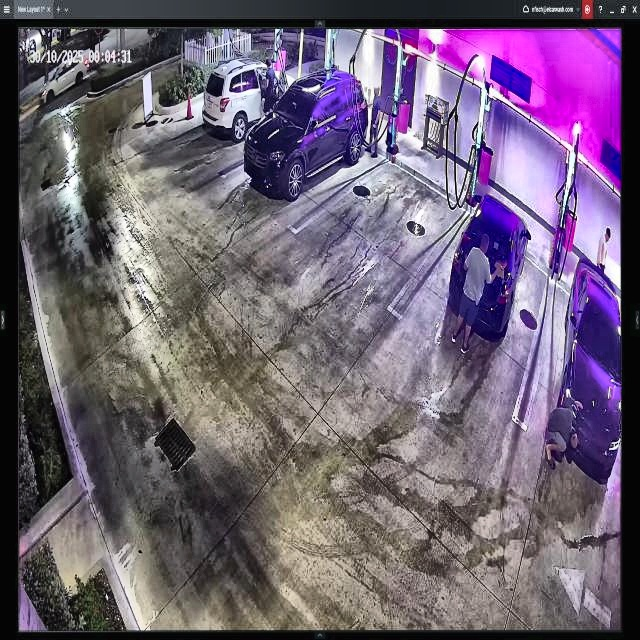Car: (242, 70, 369, 198), (448, 196, 530, 336)
